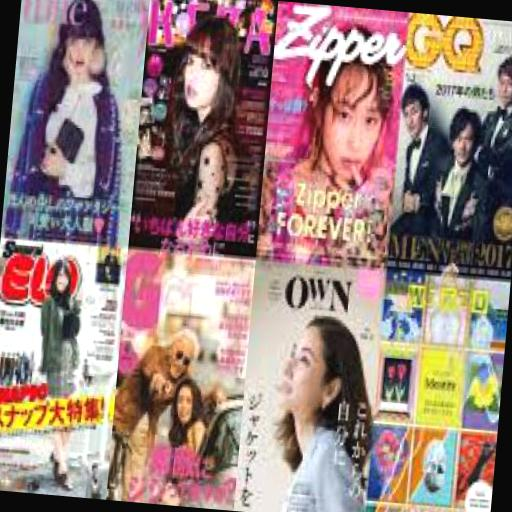paper: (254, 1, 406, 263), (103, 246, 252, 508), (232, 259, 385, 512), (128, 0, 277, 255), (361, 263, 510, 512), (1, 0, 147, 245), (385, 12, 512, 277), (0, 235, 121, 496)
